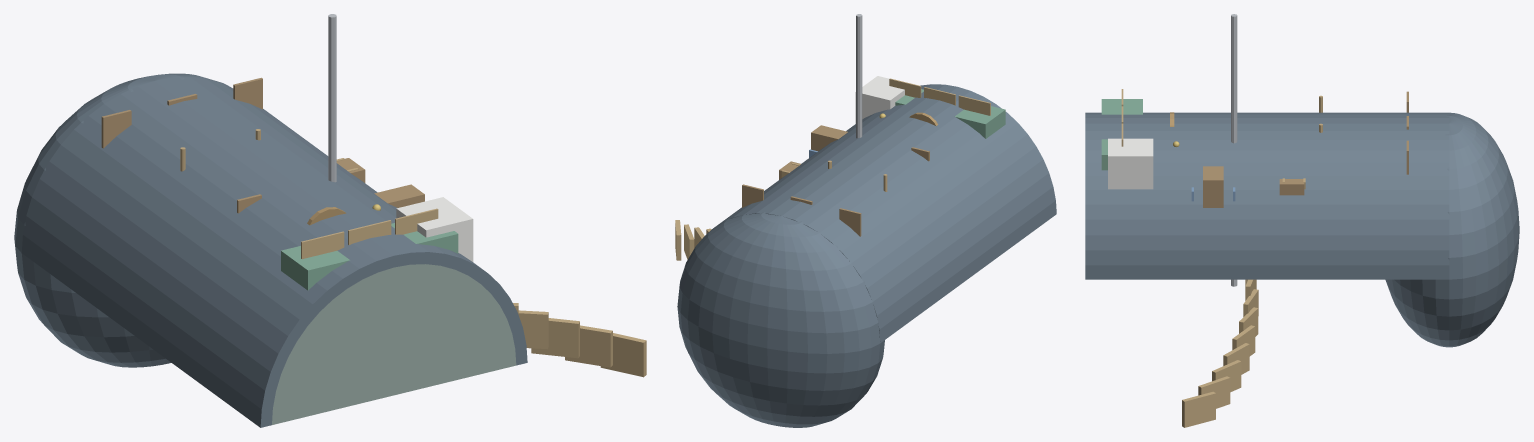
Rendered from squidward-interior.glb.
3 views of the same model, side by side, from view 1: azimuth 30°, elevation 25°; view 2: azimuth 150°, elevation 25°; view 3: azimuth 270°, elevation 25° (orthographic). The views are drawn at different scales.
Visible parts, largest first — view 1: wall_inner, floor_0, dome, kitchen_counter, fridge, stair_pole, stair_19, stair_18, stair_17, stair_16, cab_door_-0.5, bookshelf (+4 smaller); view 2: wall_inner, dome, fridge, kitchen_counter, stair_pole, bookshelf, cab_door_-0.5, gallery_frame_0, gallery_frame_2; view 3: wall_inner, dome, fridge, stair_19, stair_pole, bookshelf, kitchen_counter, stair_18, stair_17, stair_16, stair_15, dresser.
Boxes of the visible parts, x1=… form: wall_inner: x1=21, y1=77, x2=527, y2=427; floor_0: x1=272, y1=264, x2=516, y2=424; dome: x1=14, y1=73, x2=230, y2=367; kitchen_counter: x1=281, y1=223, x2=458, y2=290; fridge: x1=396, y1=197, x2=473, y2=261; stair_pole: x1=328, y1=14, x2=336, y2=182; stair_19: x1=600, y1=333, x2=646, y2=377; stair_18: x1=565, y1=325, x2=612, y2=367; stair_17: x1=531, y1=318, x2=579, y2=358; stair_16: x1=518, y1=310, x2=548, y2=349; cab_door_-0.5: x1=301, y1=231, x2=344, y2=259; bookshelf: x1=374, y1=184, x2=424, y2=207; wall_inner: x1=702, y1=84, x2=1056, y2=342; dome: x1=677, y1=212, x2=884, y2=427; fridge: x1=855, y1=76, x2=904, y2=123; kitchen_counter: x1=895, y1=89, x2=1005, y2=138; stair_pole: x1=856, y1=14, x2=862, y2=138; bookshelf: x1=811, y1=125, x2=847, y2=151; cab_door_-0.5: x1=958, y1=95, x2=990, y2=115; gallery_frame_0: x1=839, y1=208, x2=861, y2=236; gallery_frame_2: x1=742, y1=184, x2=763, y2=207; wall_inner: x1=1085, y1=112, x2=1449, y2=279; dome: x1=1385, y1=112, x2=1519, y2=347; fridge: x1=1108, y1=138, x2=1153, y2=189; stair_19: x1=1182, y1=391, x2=1215, y2=427; stair_pole: x1=1231, y1=14, x2=1237, y2=286; bookshelf: x1=1203, y1=166, x2=1223, y2=207; kitchen_counter: x1=1101, y1=99, x2=1142, y2=170; stair_18: x1=1198, y1=376, x2=1230, y2=408; stair_17: x1=1212, y1=360, x2=1241, y2=392; stair_16: x1=1223, y1=343, x2=1249, y2=374; stair_15: x1=1232, y1=325, x2=1255, y2=356; dresser: x1=1279, y1=179, x2=1304, y2=195.
Bounding box in the file's own units: 4.8 × 4.46 × 5.25.
